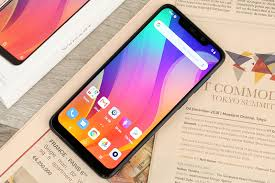vsmart: (50, 2, 227, 182)
